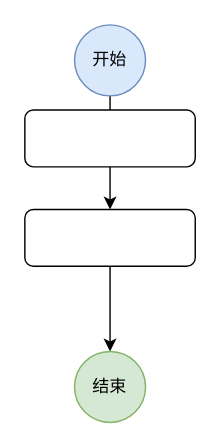
This 220x447 diagram has some shape labels left out. The centre of each missing label's shape, as x and y in pixels:
"提出申请" goes at pixel 109 138.
"直属领导" goes at pixel 109 237.
